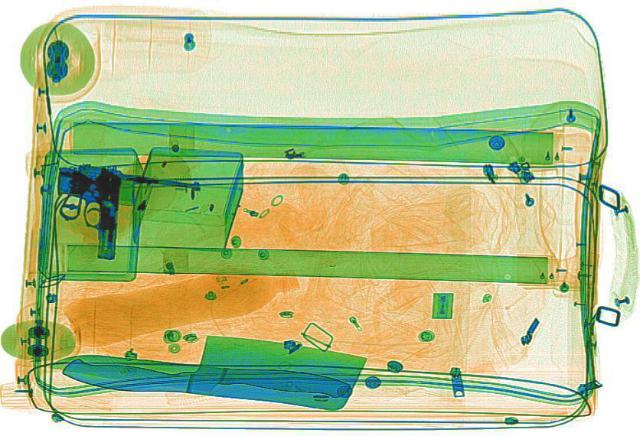Gun: (53, 161, 203, 231), (51, 162, 120, 258)
Knife: (58, 318, 364, 411), (45, 344, 352, 403)
